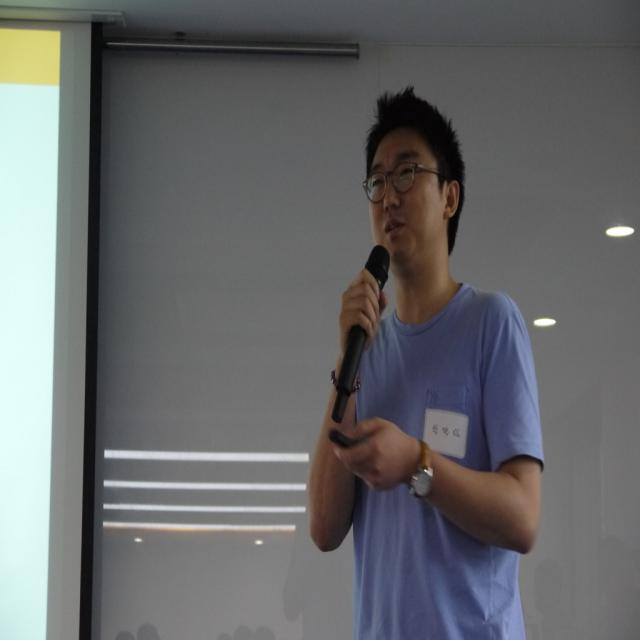no_helmet: (352, 165, 467, 213)
